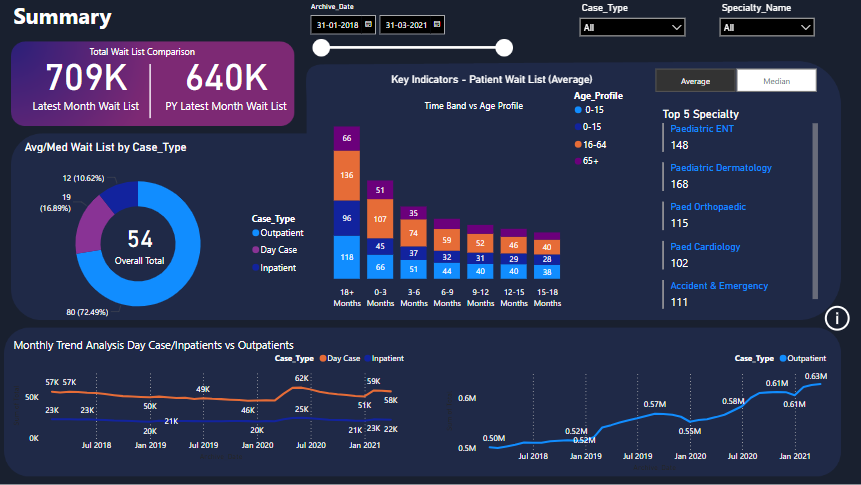

The page's visual inventory and layout, read from the dashboard file:
{"tool":"powerbi","page":{"name":"Summary","canvas":[1280,720],"ordinal":0},"visuals":[{"type":"card","fields":{"Values":["All.Latest Month Wait List"]},"box":[16,64,224,112],"z":0},{"type":"card","fields":{"Values":["All.PY Latest Month Wait List"]},"box":[240,64,192,112],"z":1000},{"type":"slicer","fields":{"Values":["Calculation Method.Calc Method"]},"box":[944,96,288,48],"z":2000},{"type":"columnChart","fields":{"Y":["All.Avg/Med Wait List"],"Category":["All.Time_Bands"],"Series":["All.Age_Profile"]},"box":[464,128,480,336],"z":3000},{"type":"multiRowCard","title":"Top 5 Specialty","fields":{"Values":["All.Specialty_Name","All.Avg/Med Wait List"]},"box":[976,160,240,304],"z":4000},{"type":"card","fields":{"Values":["All.NoDataLeft"]},"box":[160,544,304,128],"z":5000},{"type":"lineChart","fields":{"Category":["All.Archive_Date"],"Y":["Sum(All.Total)"],"Series":["All.Case_Type"]},"box":[16,512,592,176],"z":6000},{"type":"card","fields":{"Values":["All.NoDataRight"]},"box":[832,544,304,128],"z":7000},{"type":"lineChart","fields":{"Category":["All.Archive_Date"],"Y":["Sum(All.Total)"],"Series":["All.Case_Type"]},"box":[656,512,576,192],"z":8000},{"type":"slicer","fields":{"Values":["All.Archive_Date"]},"box":[448,0,320,96],"z":9000},{"type":"slicer","fields":{"Values":["All.Case_Type"]},"box":[848,0,176,64],"z":10000},{"type":"slicer","fields":{"Values":["All.Specialty_Name"]},"box":[1056,0,160,64],"z":11000},{"type":"textbox","box":[16,0,264,48],"z":12000},{"type":"shape","box":[144,96,160,80],"z":13000},{"type":"donutChart","fields":{"Category":["All.Case_Type"],"Y":["All.Avg/Med Wait List"]},"box":[32,208,432,288],"z":14000},{"type":"textbox","box":[16,496,512,48],"z":15000},{"type":"textbox","box":[624,144,176,32],"z":16000},{"type":"textbox","box":[128,64,176,32],"z":17000},{"type":"card","fields":{"Values":["All.Dynamic Title"]},"box":[560,80,336,80],"z":18000},{"type":"card","fields":{"Values":["All.Avg/Med Wait List"]},"box":[160,320,96,80],"z":19000},{"type":"actionButton","box":[1216,448,48,48],"z":20000}]}

Visuals, with their boxes in screenshot pixels (x1, y1, x2, y2), scaled from the page's 1280x720 canvas onto the 861x485 screenshot:
card - All.Latest Month Wait List: [11,43,161,119]
card - All.PY Latest Month Wait List: [161,43,291,119]
slicer - Calculation Method.Calc Method: [635,65,829,97]
columnChart - All.Avg/Med Wait List x All.Time_Bands: [312,86,635,313]
"Top 5 Specialty" multiRowCard: [657,108,818,313]
card - All.NoDataLeft: [108,366,312,453]
lineChart - All.Archive_Date x Sum(All.Total): [11,345,409,463]
card - All.NoDataRight: [560,366,764,453]
lineChart - All.Archive_Date x Sum(All.Total): [441,345,829,474]
slicer - All.Archive_Date: [301,0,517,65]
slicer - All.Case_Type: [570,0,689,43]
slicer - All.Specialty_Name: [710,0,818,43]
textbox: [11,0,188,32]
shape: [97,65,204,119]
donutChart - All.Case_Type x All.Avg/Med Wait List: [22,140,312,334]
textbox: [11,334,355,366]
textbox: [420,97,538,119]
textbox: [86,43,204,65]
card - All.Dynamic Title: [377,54,603,108]
card - All.Avg/Med Wait List: [108,216,172,269]
actionButton: [818,302,850,334]
